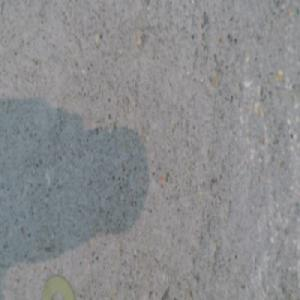Washer: (42, 275, 73, 299)
